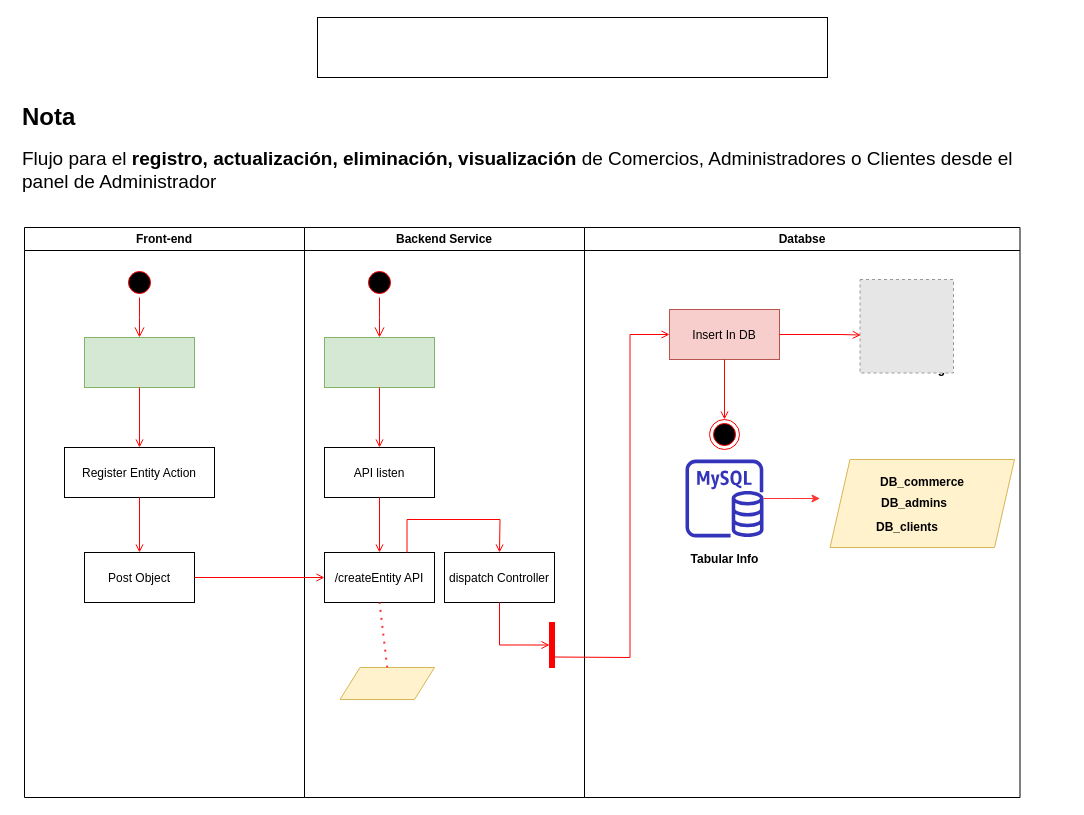
This 1084x815 diagram has some shape labels left out. Grey dashed boxes stand in for pictures. The centre of each missing label's shape, as x and y in pixels:
"Admin panel" belongs at [139,362].
"POST" belongs at [386,683].
"Registro de Usuarios" belongs at [572,47].
"Server start" belongs at [379,362].
